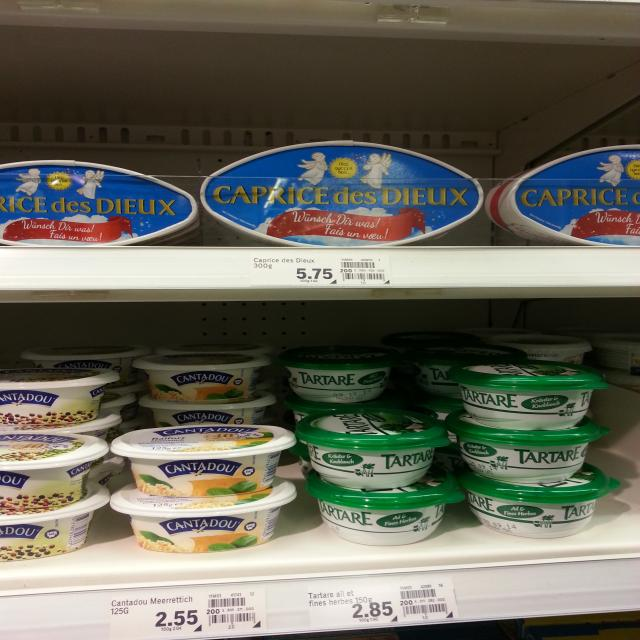Cheese: (200, 140, 484, 246), (0, 158, 197, 248), (110, 476, 298, 554), (496, 144, 640, 245), (108, 423, 297, 498), (303, 463, 465, 547), (461, 461, 621, 540), (295, 408, 452, 488), (448, 407, 612, 482), (448, 358, 609, 431), (0, 478, 110, 562), (0, 431, 109, 507), (0, 364, 120, 425), (132, 352, 275, 400), (280, 353, 400, 403)
